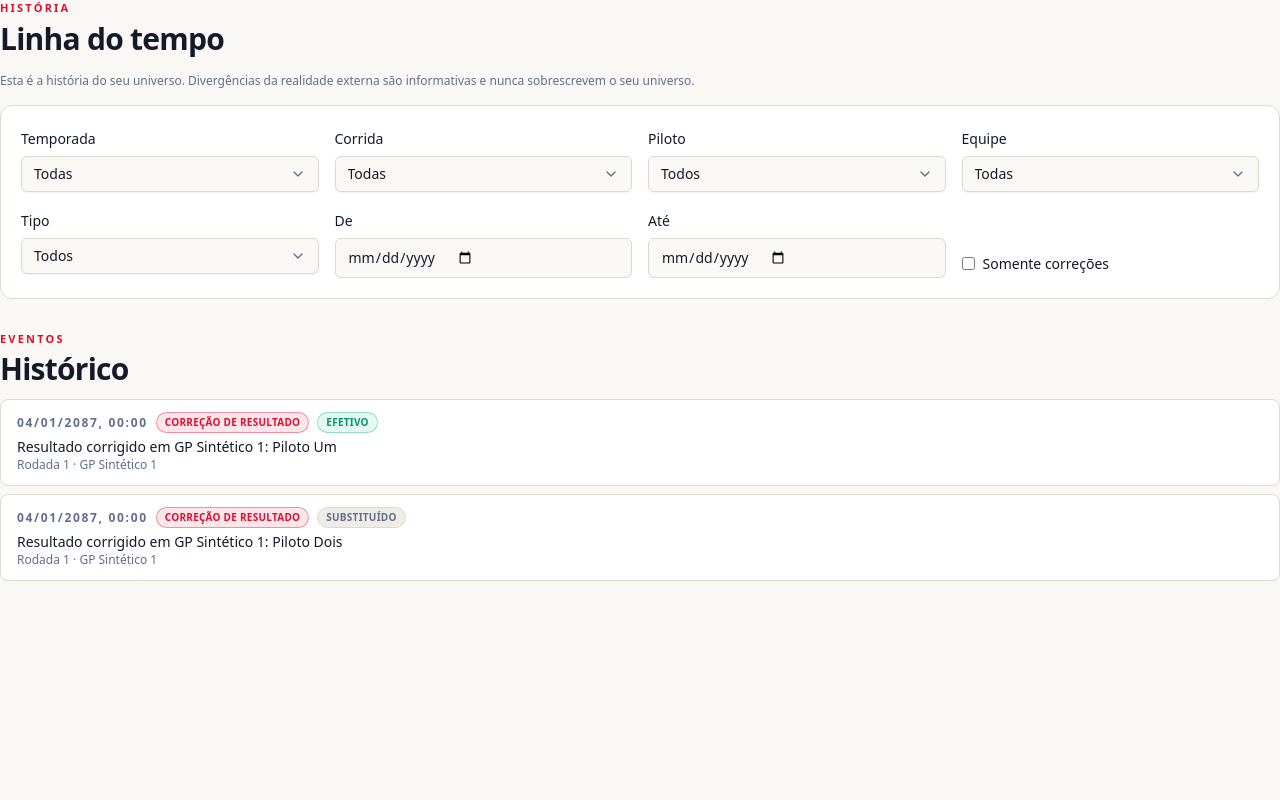
Test case: TimelineView › 7) divergência externa é exibida com classificações
Check: the text "Resultado corrigido em GP Sintético 1: Piloto Um" is shown, box top-left (17, 437), bottom-right (337, 456)
Click the button named "Temporada": (53, 173) top-left (21, 156), bottom-right (318, 192)
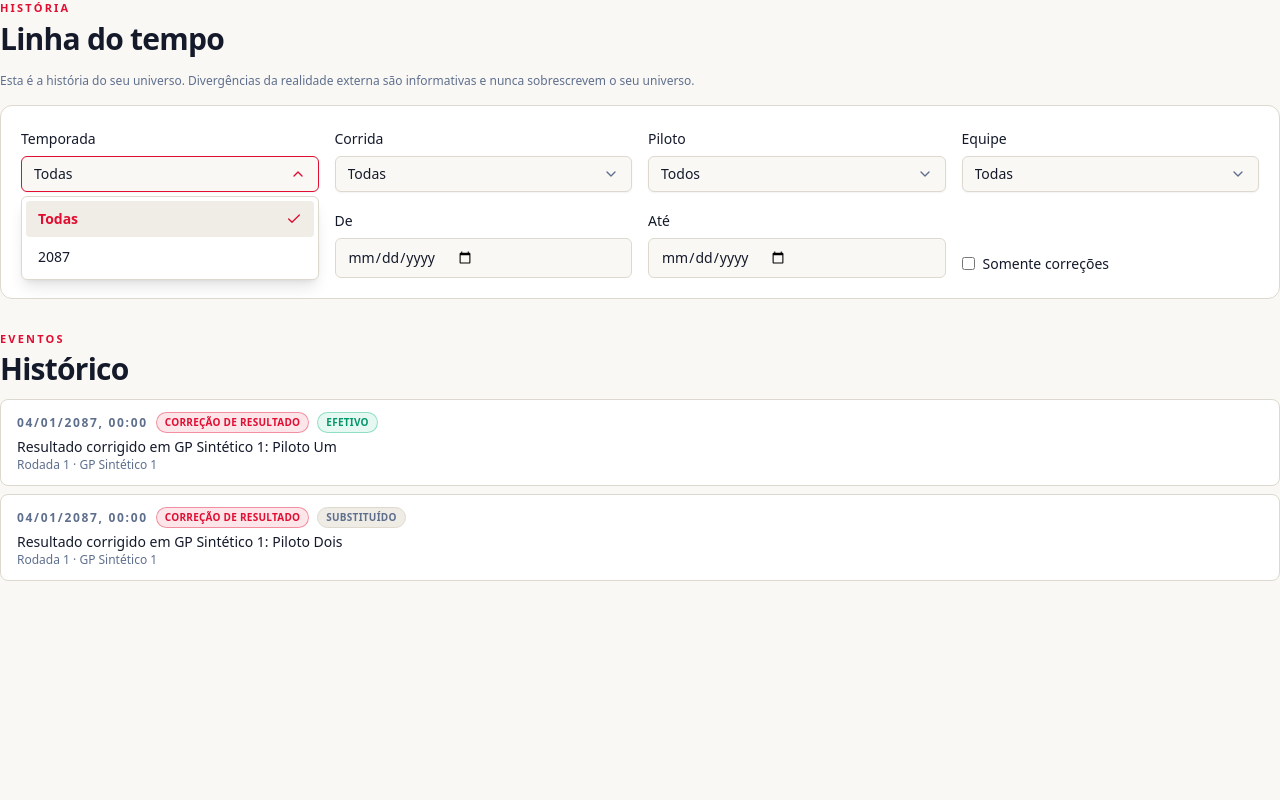
Click the option "2087": (54, 256) top-left (38, 246), bottom-right (70, 266)
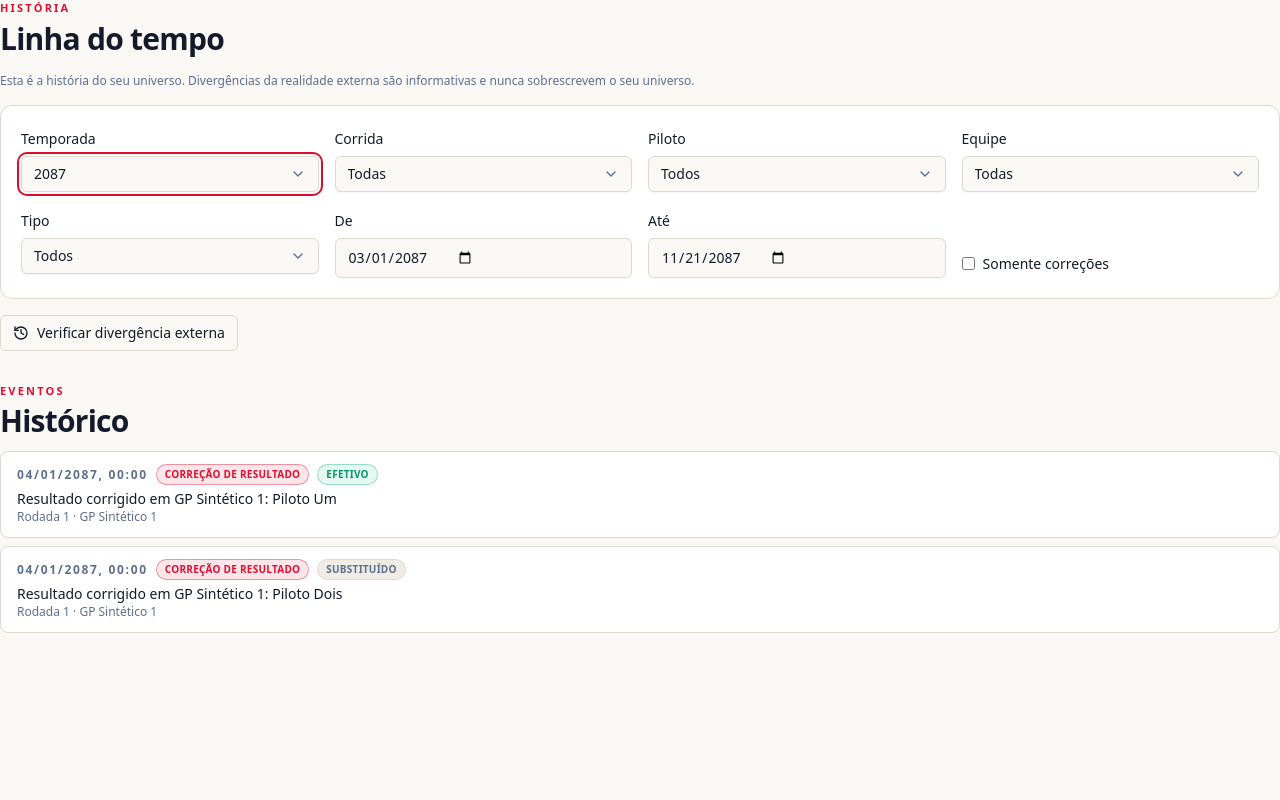
Click the button "Verificar divergência externa": (119, 332) top-left (0, 314), bottom-right (238, 350)
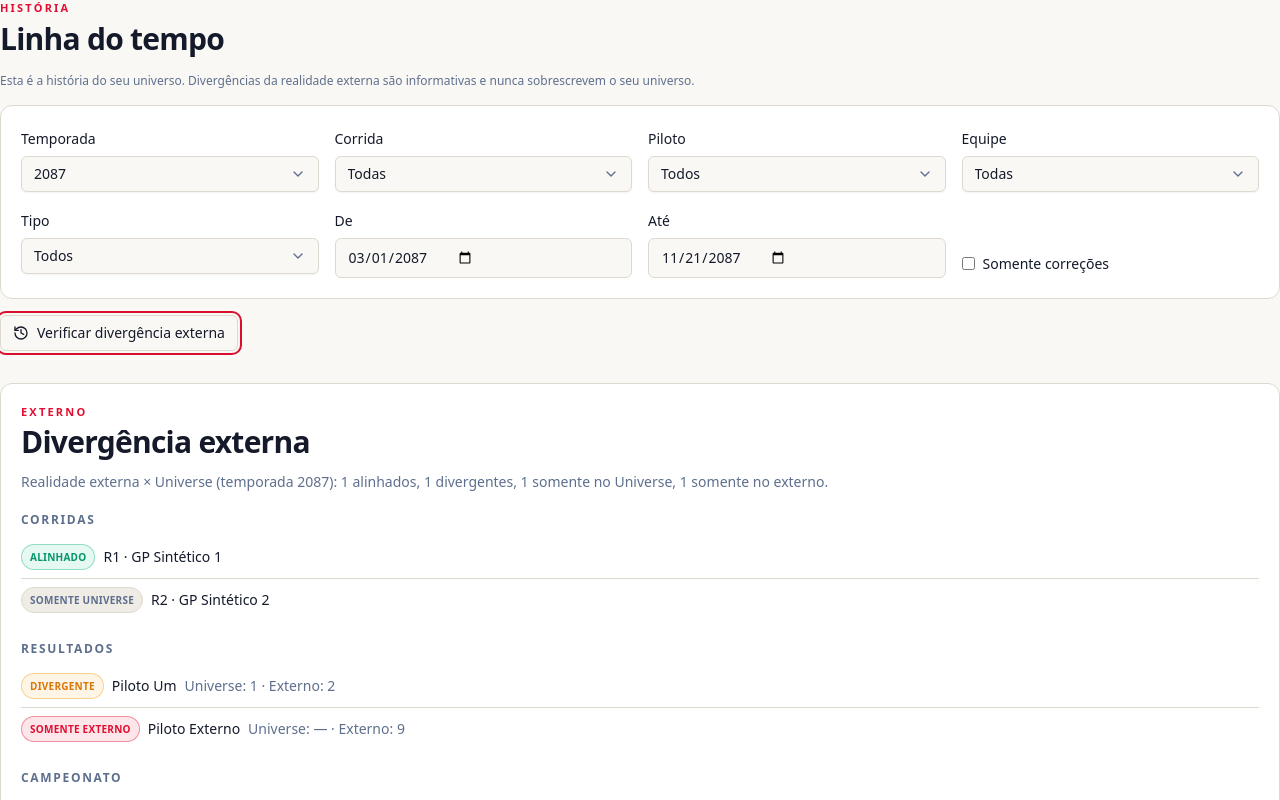
Check: the text "Alinhado" is shown, box top-left (21, 544), bottom-right (96, 570)
Check: the text "Divergente" is shown, box top-left (21, 673), bottom-right (104, 699)
Check: the text "Somente Universe" is shown, box top-left (21, 587), bottom-right (143, 613)
